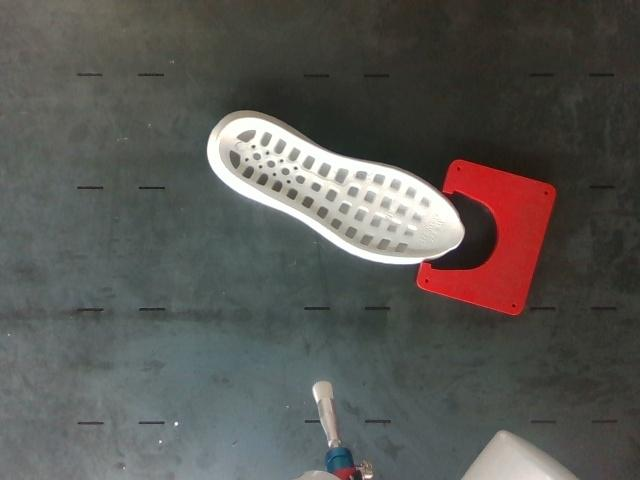shoes: (219, 118, 463, 257)
